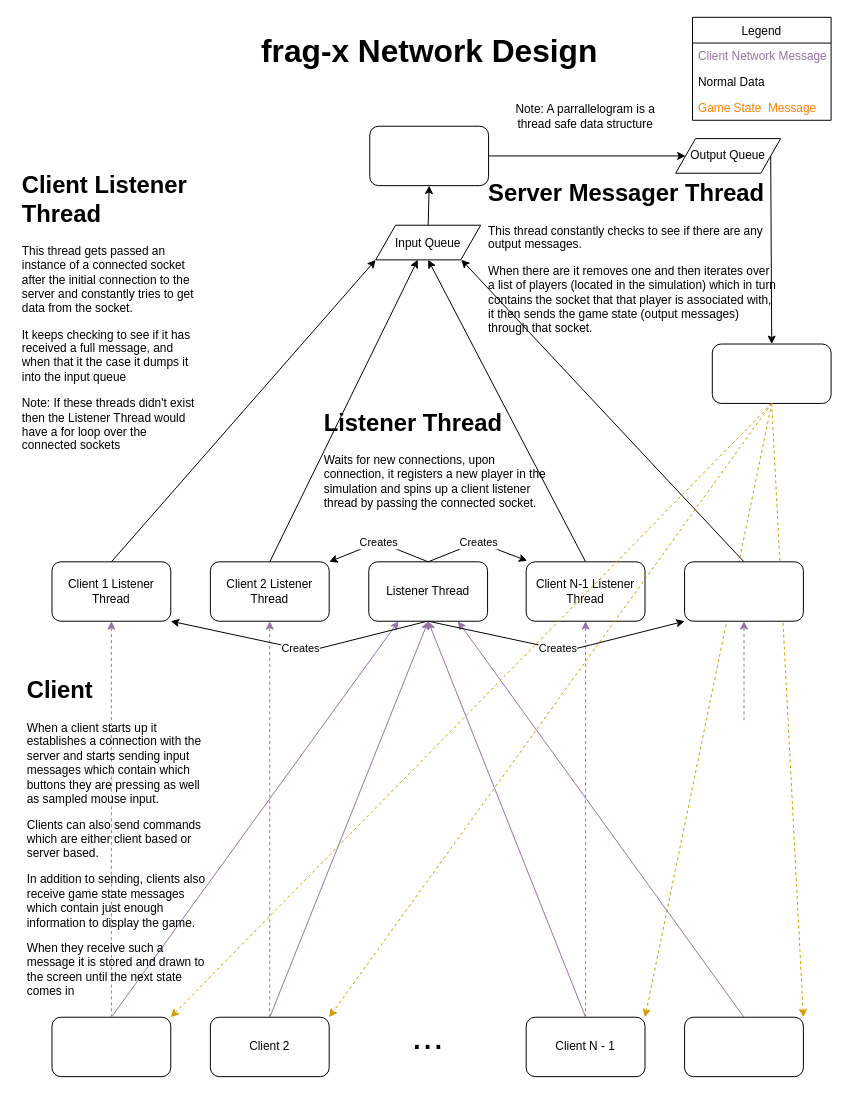
Some shapes in this 848 by 1094 pixel diagram are drawn without their labels. The box of each missing label's shape, as (x1, y1, x2, y2) in pixels:
Client 1: (51, 1016, 171, 1077)
Client N: (684, 1016, 803, 1077)
Client N Listener Thread: (684, 561, 803, 621)
Server Messager Thread: (711, 343, 831, 403)
Simulation: (369, 125, 489, 186)
